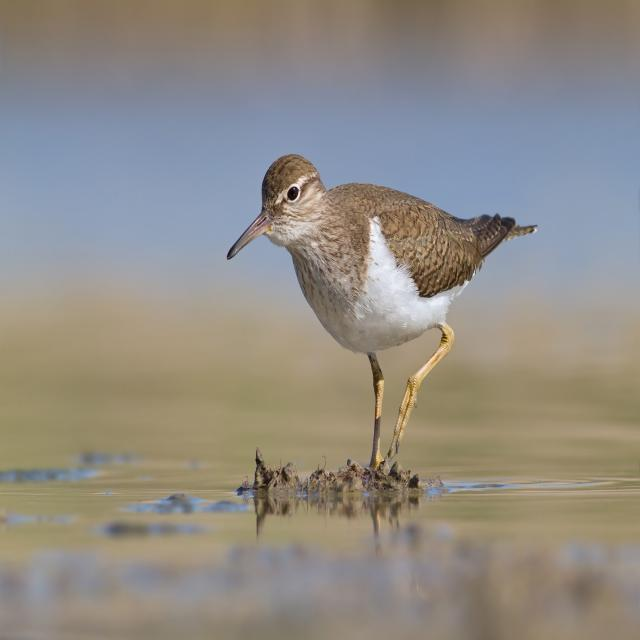Sandpiper: (222, 148, 524, 462)
